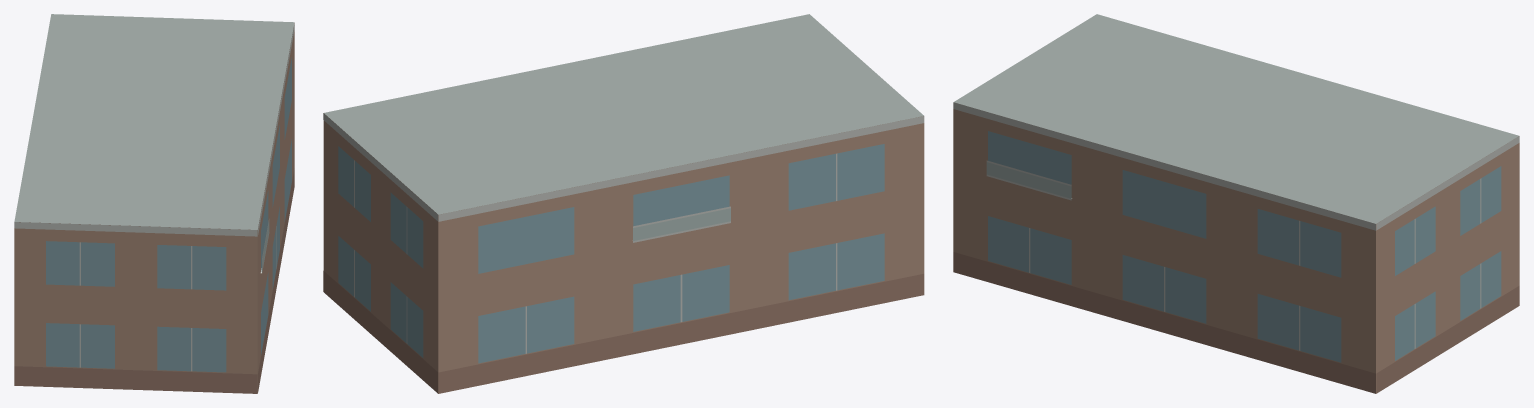
File: survey-upis-32807374.glb
The picture shows the model from 3 angles, left to right: view 1: azimuth 30°, elevation 25°; view 2: azimuth 150°, elevation 25°; view 3: azimuth 270°, elevation 25°; orthographic projection. The views are drawn at different scales.
Parts seen in each view (by area): view 1: survey-upis-32807374.tmp; view 2: survey-upis-32807374.tmp; view 3: survey-upis-32807374.tmp.
Part boxes in pixels (x1,y1,x2,y2): survey-upis-32807374.tmp: [14, 14, 294, 393]; survey-upis-32807374.tmp: [323, 14, 924, 393]; survey-upis-32807374.tmp: [953, 14, 1519, 393].
Size of the model in its own units: 16.17 by 6.1 by 18.43.
